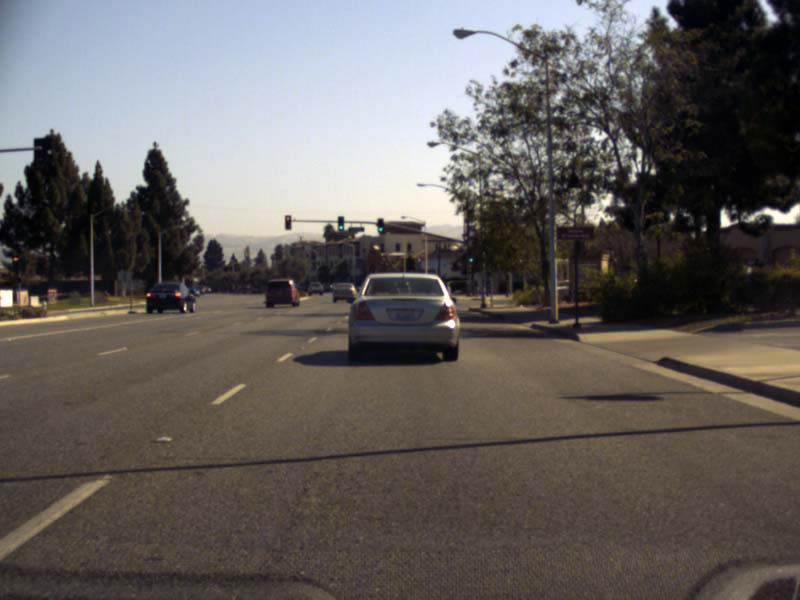Green: (377, 219, 384, 232), (467, 251, 473, 263), (338, 216, 343, 230)
Red: (285, 215, 291, 230), (13, 255, 19, 270)
